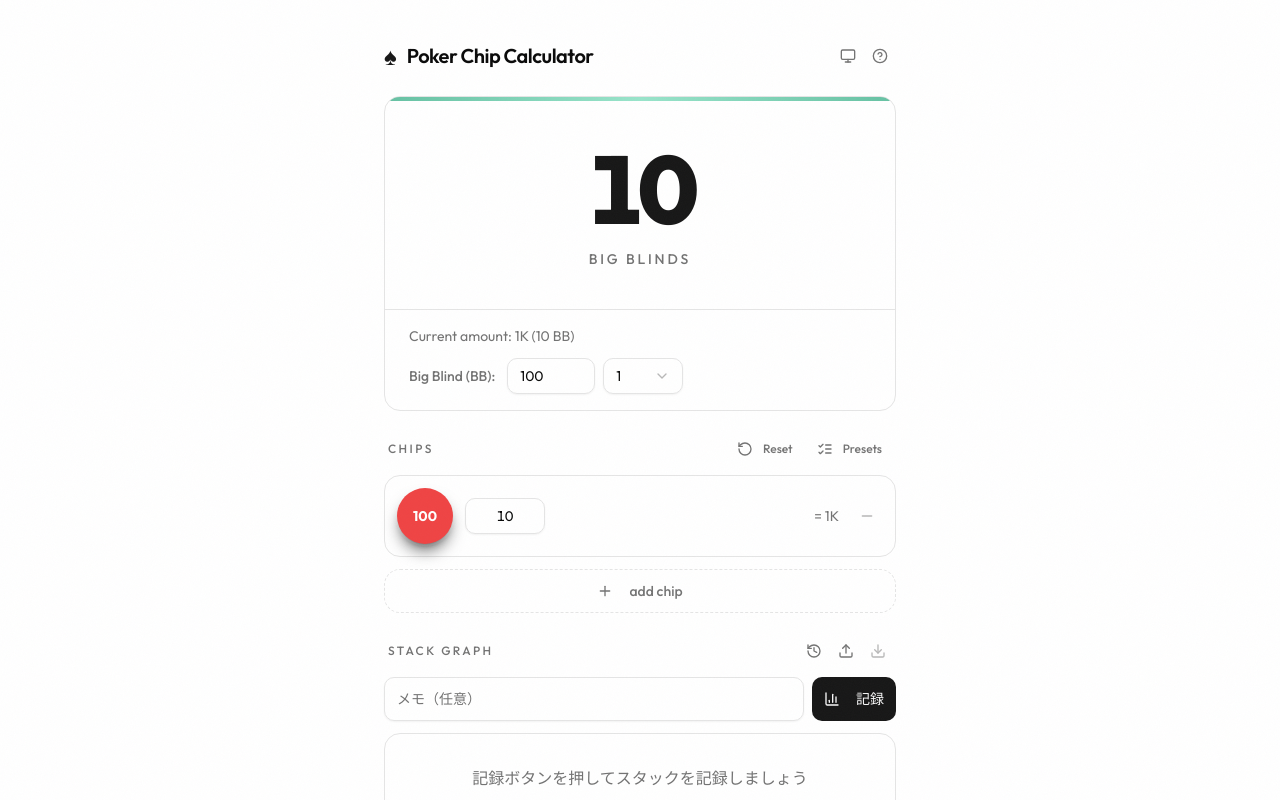
Scenario: PokerChipCalculator › チュートリアル統合 › ヘルプボタンでチュートリアルを再表示できる
This screenshot has width=1280, height=800.
Click the button named "チュートリアルを表示" at coordinates (880, 56), box [864,40,896,72]
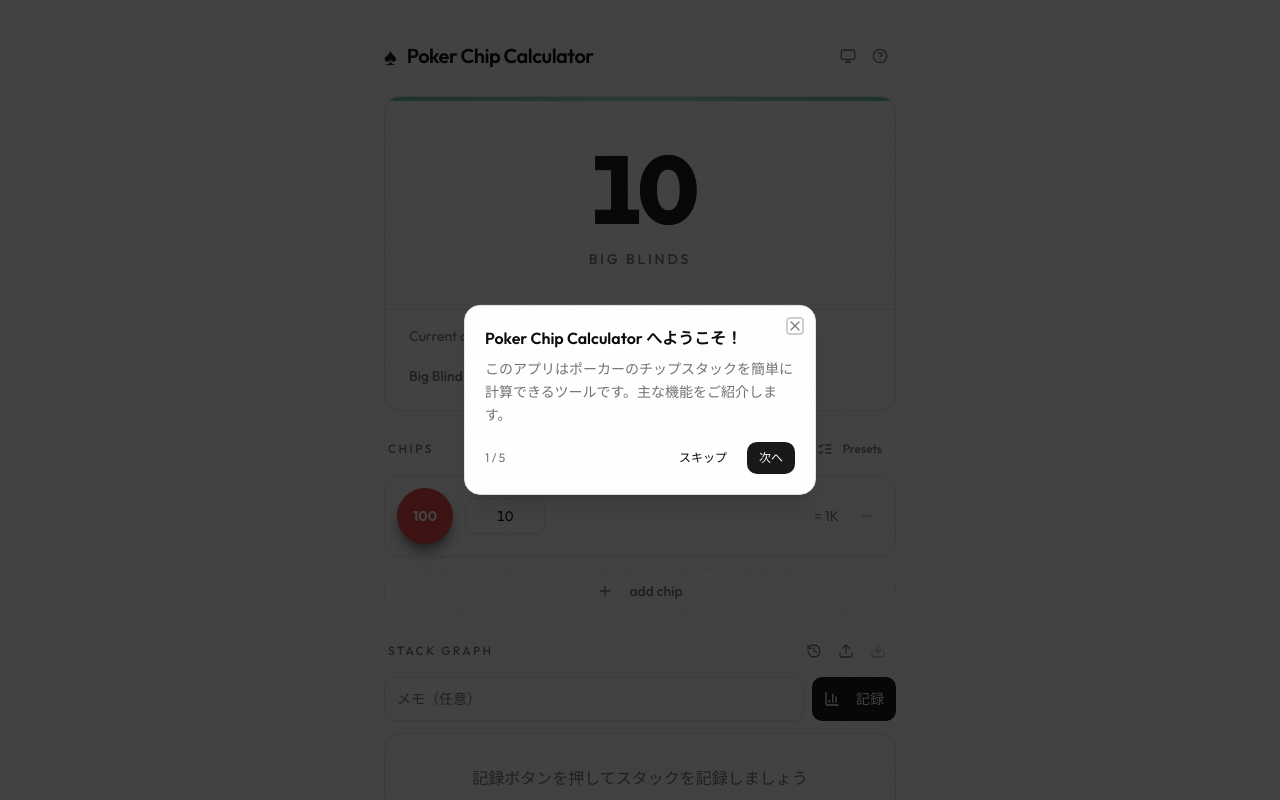
Expected: the dialog named "チュートリアル" is shown
Expected: the heading "Poker Chip Calculator へようこそ！" is shown, [485,328,742,348]
